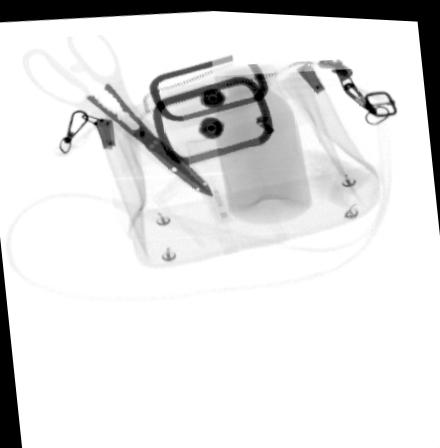Scissors: (21, 23, 214, 194)
